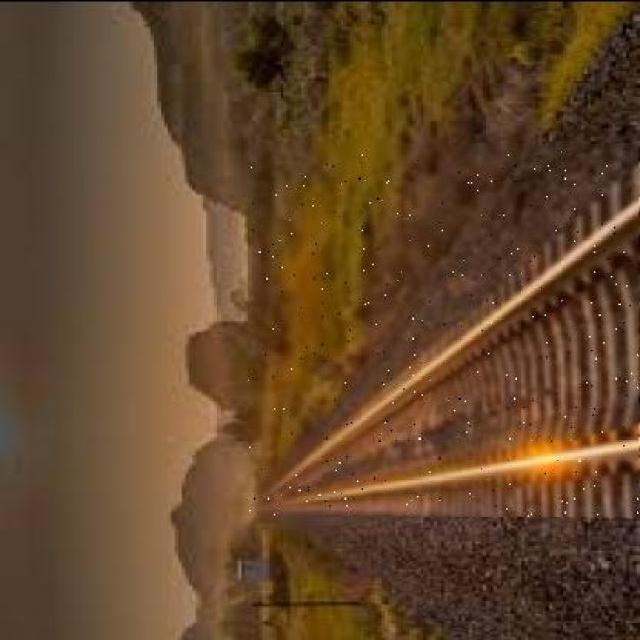rail: (249, 145, 639, 514)
